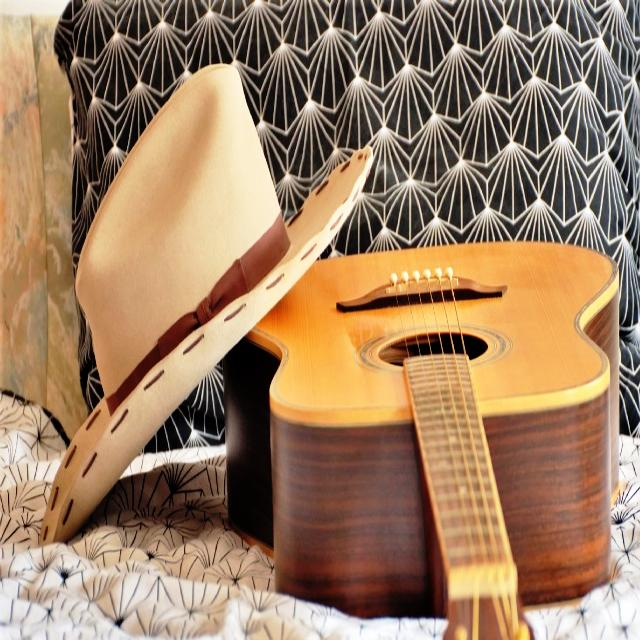TOPI: (33, 54, 379, 552)
